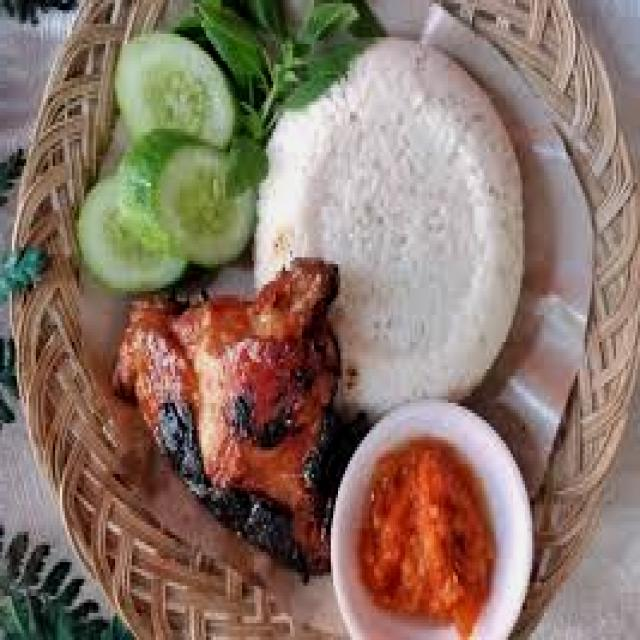ayam bakar: (113, 257, 348, 579)
nasi: (254, 37, 525, 413)
